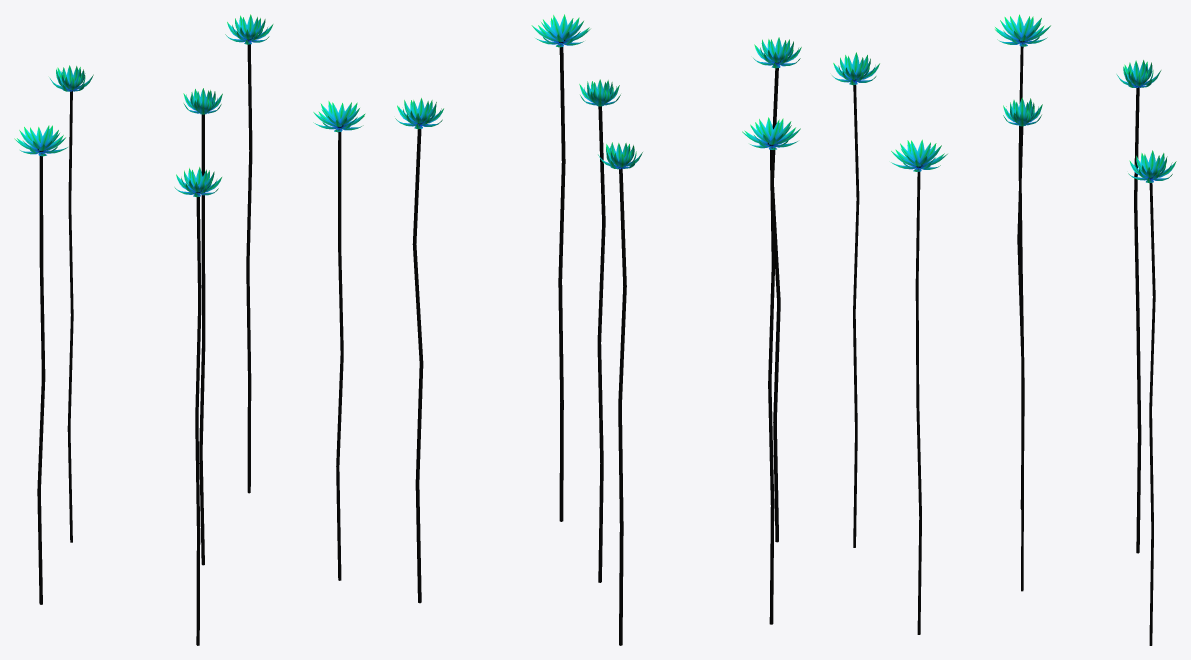
The model's file is WaterLily_Flowers_A1_01.fbx.
The picture shows the model from 3 angles, left to right: view 1: azimuth 30°, elevation 25°; view 2: azimuth 150°, elevation 25°; view 3: azimuth 270°, elevation 25°; orthographic projection. The views are drawn at different scales.
Visible parts, largest first — view 1: WaterLily_Flowers_A1_01_LOD0; view 2: WaterLily_Flowers_A1_01_LOD0; view 3: WaterLily_Flowers_A1_01_LOD0.
Boxes of the visible parts, x1=… form: WaterLily_Flowers_A1_01_LOD0: x1=14, y1=14, x2=365, y2=645; WaterLily_Flowers_A1_01_LOD0: x1=395, y1=14, x2=801, y2=645; WaterLily_Flowers_A1_01_LOD0: x1=832, y1=14, x2=1176, y2=645.
Size of what is drawn, in the model's own units: 2.95 by 4.18 by 2.69.
